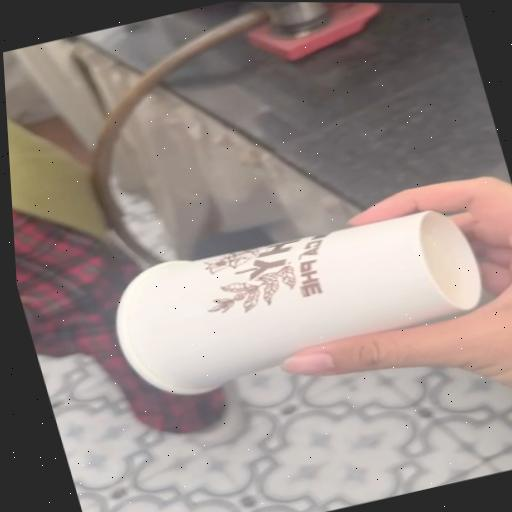Ly_giay: (118, 211, 482, 394)
